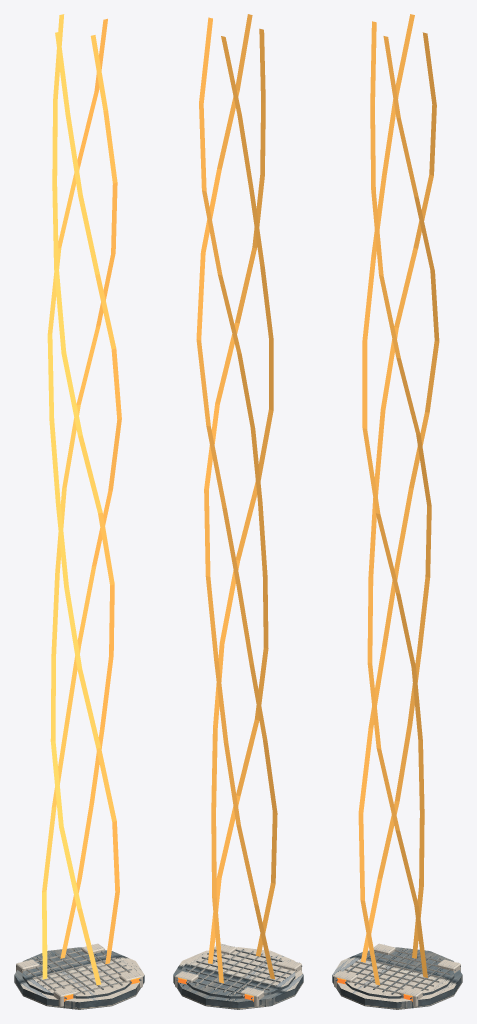
The model's file is thermalVent.glb.
3 renders of one model, left to right at view 1: azimuth 30°, elevation 25°; view 2: azimuth 150°, elevation 25°; view 3: azimuth 330°, elevation 25°, orthographic.
Parts seen in each view (by area): view 1: Thermal.Ribbon.03, Thermal.Ribbon.02, Thermal.Ribbon.01, Thermal.Ribbon.00, Vent.Rim, Vent.Foundation; view 2: Thermal.Ribbon.02, Thermal.Ribbon.01, Thermal.Ribbon.03, Thermal.Ribbon.00, Vent.Rim, Vent.Foundation; view 3: Thermal.Ribbon.01, Thermal.Ribbon.03, Thermal.Ribbon.02, Thermal.Ribbon.00, Vent.Rim, Vent.Foundation.
Boxes of the visible parts, x1,y1,x2,y2 form: Thermal.Ribbon.03: [52, 14, 114, 958]; Thermal.Ribbon.02: [42, 31, 121, 979]; Thermal.Ribbon.01: [50, 35, 117, 985]; Thermal.Ribbon.00: [47, 18, 119, 964]; Vent.Rim: [22, 948, 136, 998]; Vent.Foundation: [14, 947, 144, 1009]; Thermal.Ribbon.02: [204, 28, 275, 979]; Thermal.Ribbon.01: [196, 14, 277, 956]; Thermal.Ribbon.03: [211, 36, 273, 983]; Thermal.Ribbon.00: [199, 17, 268, 964]; Vent.Rim: [181, 948, 295, 998]; Vent.Foundation: [173, 947, 303, 1009]; Thermal.Ribbon.01: [358, 36, 439, 985]; Thermal.Ribbon.03: [362, 14, 424, 958]; Thermal.Ribbon.02: [361, 21, 431, 962]; Thermal.Ribbon.00: [367, 32, 436, 977]; Vent.Rim: [340, 948, 454, 998]; Vent.Foundation: [332, 947, 462, 1009].
Size of what is drawn, in the model's own units: 20 by 162 by 20.
5 materials, 3 textured.
